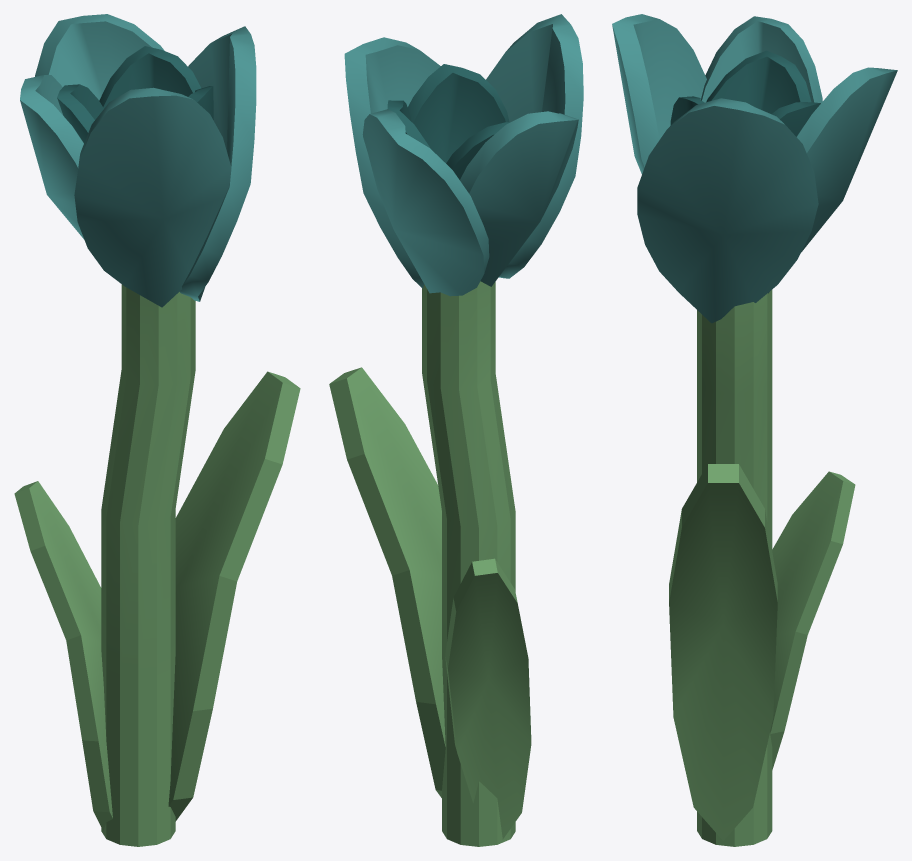
Rendered from tulp.fbx.
3 renders of one model, left to right at view 1: azimuth 30°, elevation 25°; view 2: azimuth 150°, elevation 25°; view 3: azimuth 270°, elevation 25°, orthographic. The views are drawn at different scales.
Visible parts, largest first — view 1: pCylinder1, pCylinder5, pCylinder9, pCylinder10, pCylinder4, pCylinder3, pCylinder2, pCylinder6, pCylinder7; view 2: pCylinder1, pCylinder9, pCylinder10, pCylinder3, pCylinder2, pCylinder5, pCylinder4, pCylinder8, pCylinder7, pCylinder6; view 3: pCylinder9, pCylinder4, pCylinder1, pCylinder10, pCylinder5, pCylinder3, pCylinder2, pCylinder7, pCylinder6.
Part boxes in pixels (bbox=[...]): pCylinder1: bbox=[101, 284, 195, 846]; pCylinder5: bbox=[74, 87, 231, 307]; pCylinder9: bbox=[168, 371, 300, 821]; pCylinder10: bbox=[14, 481, 112, 830]; pCylinder4: bbox=[179, 26, 256, 301]; pCylinder3: bbox=[35, 14, 164, 100]; pCylinder2: bbox=[20, 75, 84, 239]; pCylinder6: bbox=[99, 46, 201, 108]; pCylinder7: bbox=[57, 84, 103, 142]; pCylinder1: bbox=[422, 281, 515, 846]; pCylinder9: bbox=[329, 367, 445, 797]; pCylinder10: bbox=[445, 558, 531, 839]; pCylinder3: bbox=[362, 109, 489, 296]; pCylinder2: bbox=[460, 111, 578, 286]; pCylinder5: bbox=[486, 14, 583, 278]; pCylinder4: bbox=[344, 37, 440, 288]; pCylinder8: bbox=[408, 64, 509, 162]; pCylinder7: bbox=[446, 122, 509, 179]; pCylinder6: bbox=[387, 100, 429, 147]; pCylinder9: bbox=[669, 464, 777, 840]; pCylinder4: bbox=[637, 98, 818, 323]; pCylinder1: bbox=[697, 290, 772, 846]; pCylinder10: bbox=[770, 471, 855, 769]; pCylinder5: bbox=[612, 14, 706, 173]; pCylinder3: bbox=[768, 67, 897, 293]; pCylinder2: bbox=[701, 16, 822, 102]; pCylinder7: bbox=[706, 50, 811, 114]; pCylinder6: bbox=[772, 102, 820, 136].
Bounding box in the file's own units: 2.11 × 6.14 × 2.
